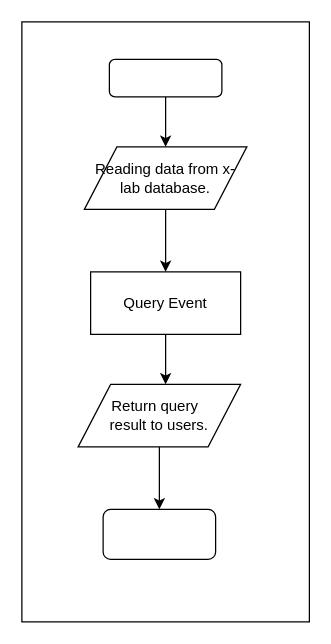
This 331x644 diagram has some shape labels left out. The shapes that lost their labels are listed below. From the top down, each one's centre as x and y in pixels, then its label:
At pixel 165 77: "Start".
At pixel 159 533: "End".
